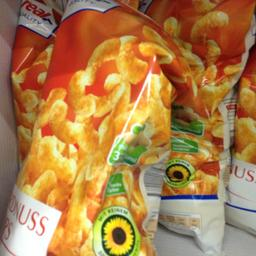chips: (4, 0, 182, 255)
